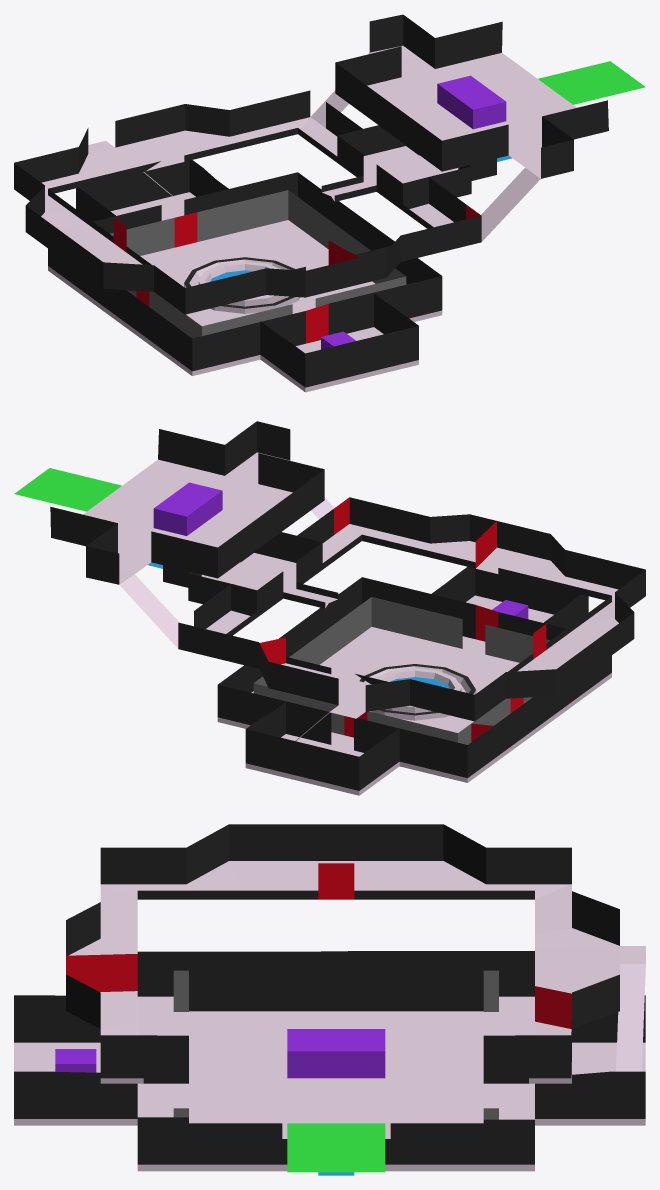
File: level1NEU B.fbx
3 views of the same model, one above another, from view 1: azimuth 30°, elevation 25°; view 2: azimuth 150°, elevation 25°; view 3: azimuth 270°, elevation 25° (orthographic). The views are drawn at different scales.
Parts seen in each view (by area): view 1: Cube.001; view 2: Cube.001; view 3: Cube.001.
Part boxes in pixels (bbox=[...]): Cube.001: bbox=[14, 14, 645, 392]; Cube.001: bbox=[14, 421, 645, 795]; Cube.001: bbox=[14, 824, 645, 1175].
Size of the model in its own units: 9181 by 2453 by 6476.
